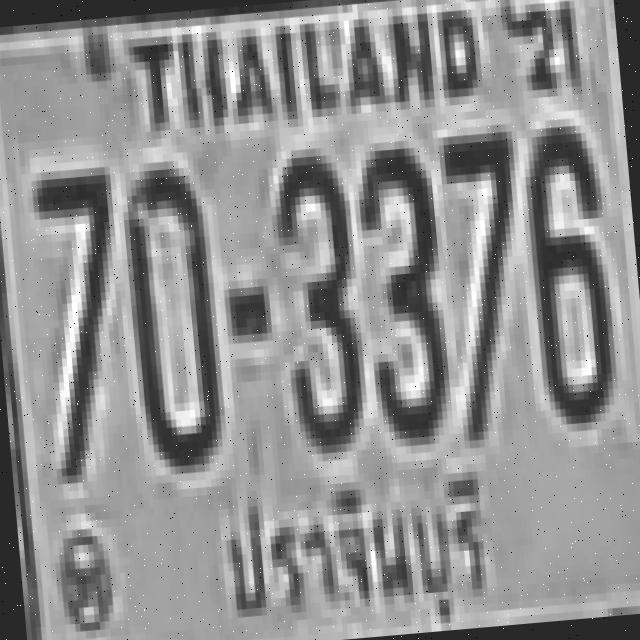0: (114, 158, 224, 469)
3: (348, 138, 448, 440), (266, 146, 366, 448)
6: (515, 116, 615, 418)
7: (27, 162, 133, 480), (438, 128, 532, 436), (30, 163, 122, 379)
PrachinBuri: (203, 463, 507, 640)
